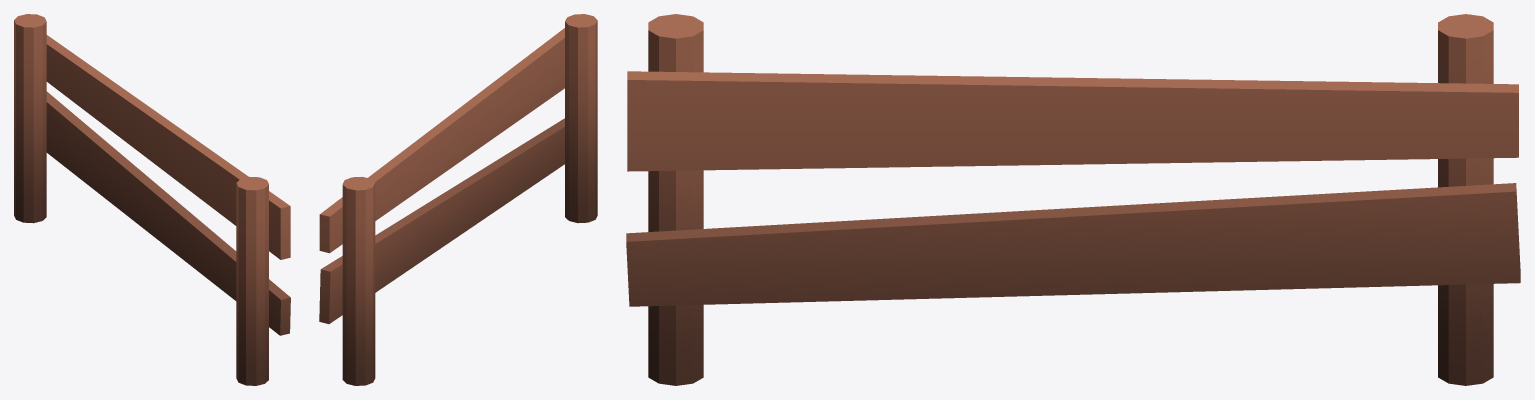
Rendered from FenceWood1.fbx.
3 views of the same model, side by side, from view 1: azimuth 30°, elevation 25°; view 2: azimuth 150°, elevation 25°; view 3: azimuth 270°, elevation 25° (orthographic). The views are drawn at different scales.
Parts seen in each view (by area): view 1: Fence.001; view 2: Fence.001; view 3: Fence.001.
Part boxes in pixels (x1=…): Fence.001: x1=14, y1=14, x2=290, y2=385; Fence.001: x1=319, y1=14, x2=597, y2=385; Fence.001: x1=626, y1=14, x2=1520, y2=385.
Size of the model in its own units: 23.24 by 113 by 264.
